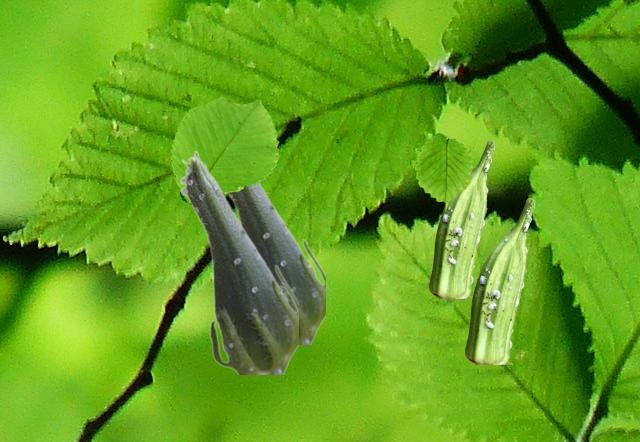okra: (179, 150, 297, 373), (227, 183, 324, 343), (465, 198, 534, 363), (429, 140, 494, 297)
